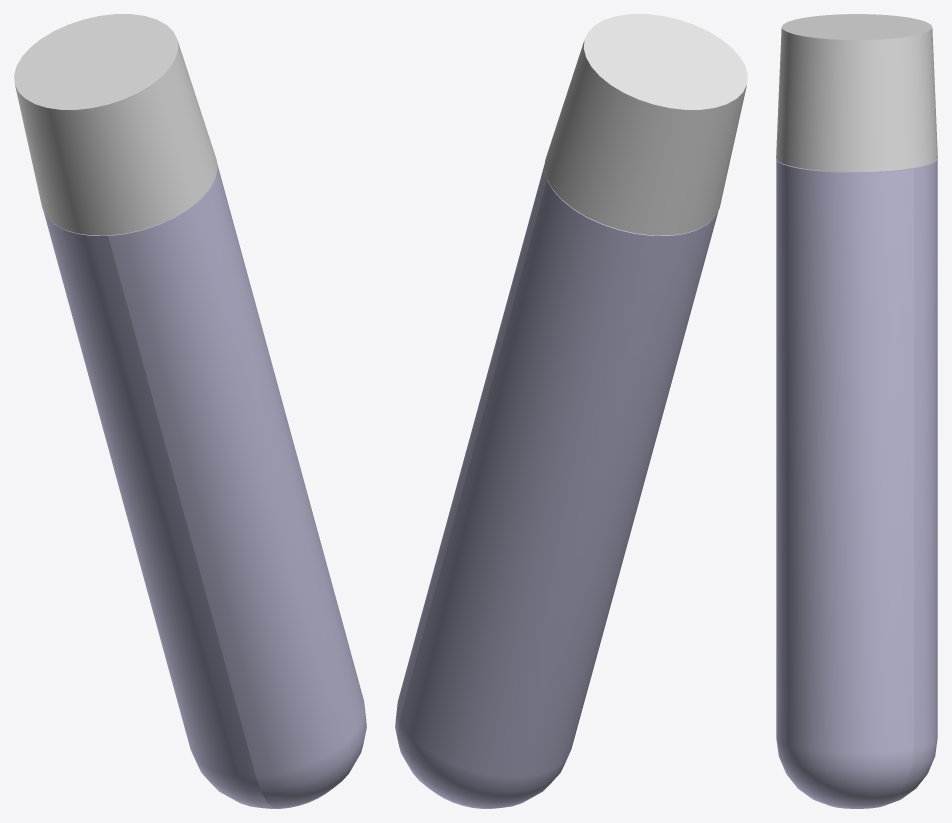
Rendered from TestCube.glb.
3 views of the same model, side by side, from view 1: azimuth 30°, elevation 25°; view 2: azimuth 150°, elevation 25°; view 3: azimuth 270°, elevation 25° (orthographic). The views are drawn at different scales.
Visible parts, largest first — view 1: SampleCube.007, Cylinder.008; view 2: SampleCube.007, Cylinder.008; view 3: SampleCube.007, Cylinder.008.
Part boxes in pixels (<box>): SampleCube.007: <box>43,163,366,808</box>; Cylinder.008: <box>14,14,217,235</box>; SampleCube.007: <box>395,163,718,808</box>; Cylinder.008: <box>544,14,747,235</box>; SampleCube.007: <box>776,159,937,808</box>; Cylinder.008: <box>776,14,937,171</box>.
Size of the model in its own units: 0.1117 by 0.2591 by 0.0532.
